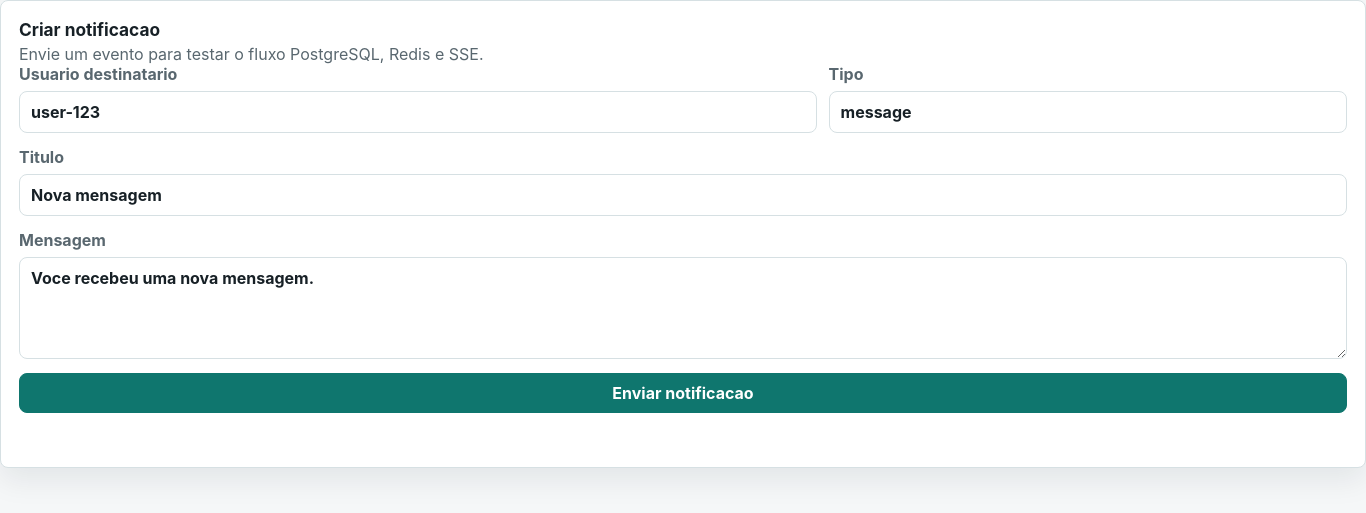
Scenario: CreateNotificationForm › validates required fields
Clear the field labelled "Titulo" at (683, 195), box [19,174,1347,216]
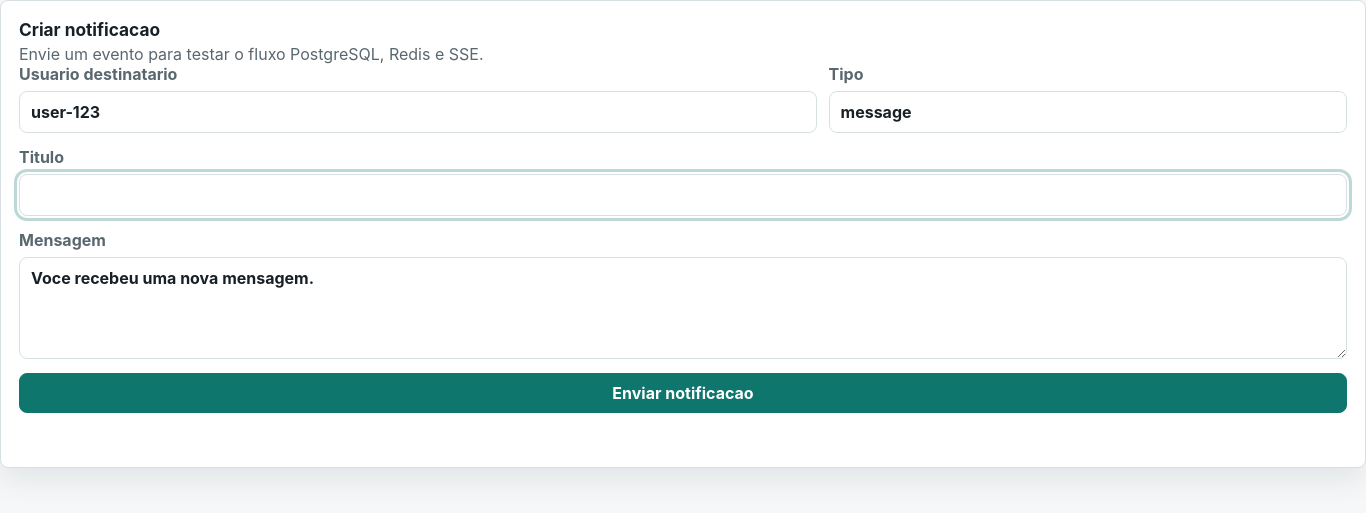
Click the button "Enviar notificacao" at (683, 393), box [19,373,1347,413]
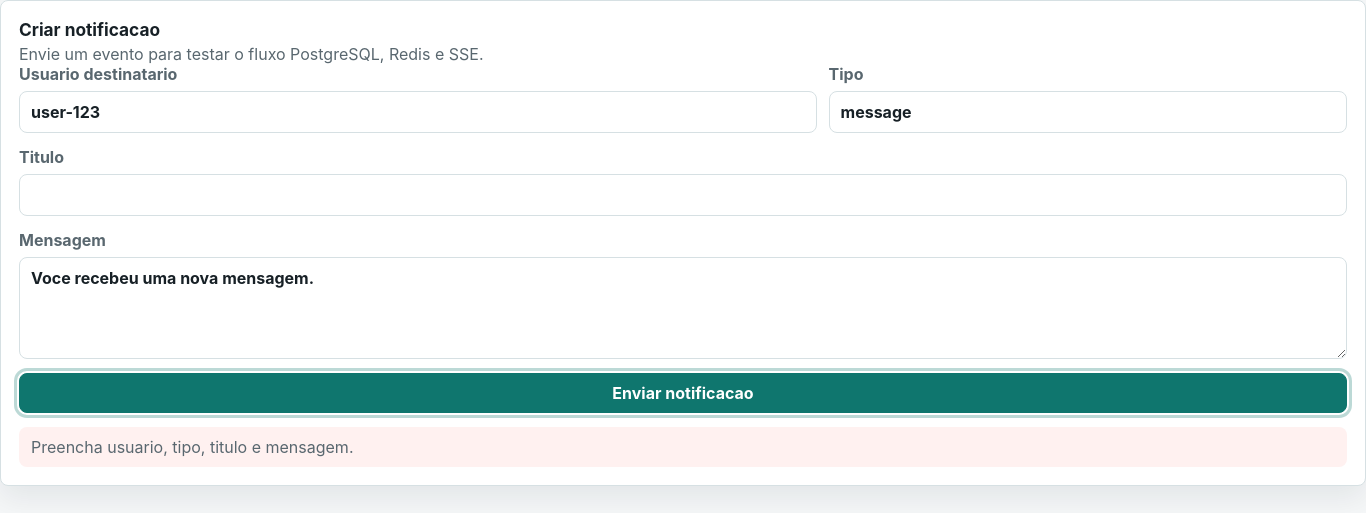
Check: the text "Preencha usuario, tipo, titulo e mensagem." is shown, box [19,427,1347,467]
